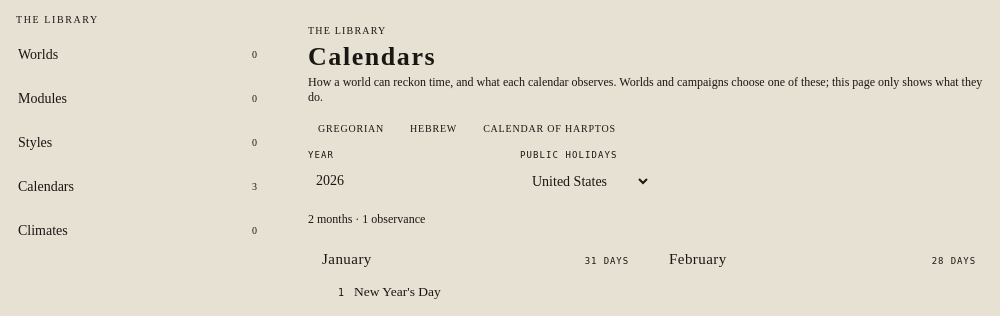
Test case: the year is the calendar's own, and switching calendars does not carry it over
Expected: the text "January" is shown, [322,251,372,268]
Expected: the number field labelled "Year" holds "2026", [308,164,502,198]
Step 1. Click the button "Hebrew" → coordinates (434, 129), box [400,119,467,138]
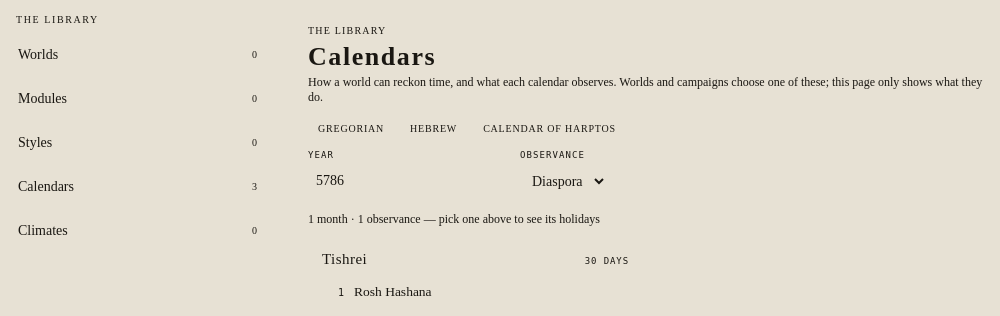
Expected: the number field labelled "Year" holds "5786", [308,164,502,198]
